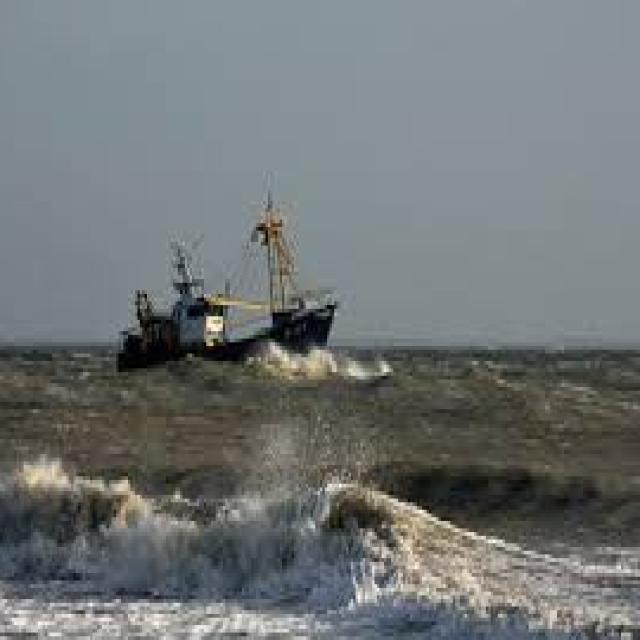fishing boat: (119, 188, 338, 368)
